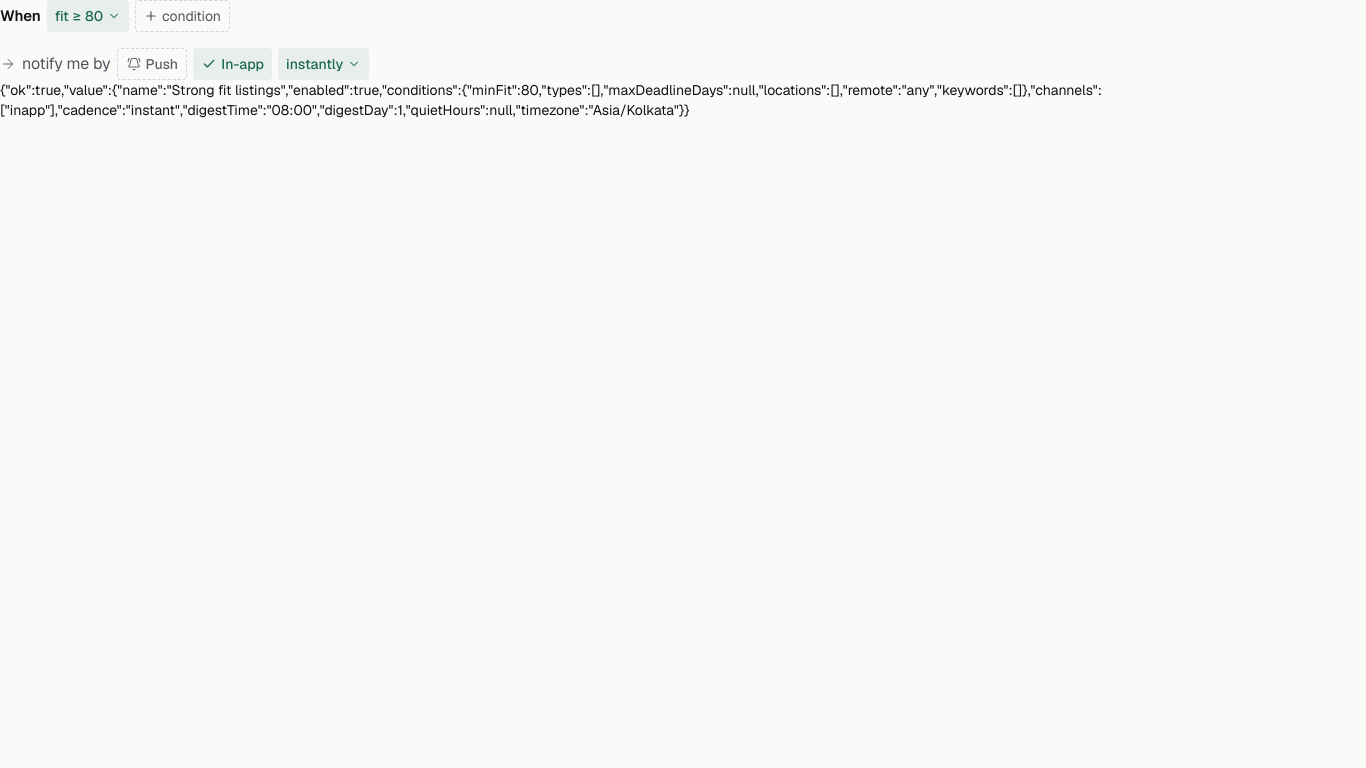
Test: SentenceBuilder → alertRuleInputSchema › edits the fit bracket from its popover
Click the button with test id "alerts-cond-fit": x=88, y=16 x1=47 y1=0 x2=129 y2=32
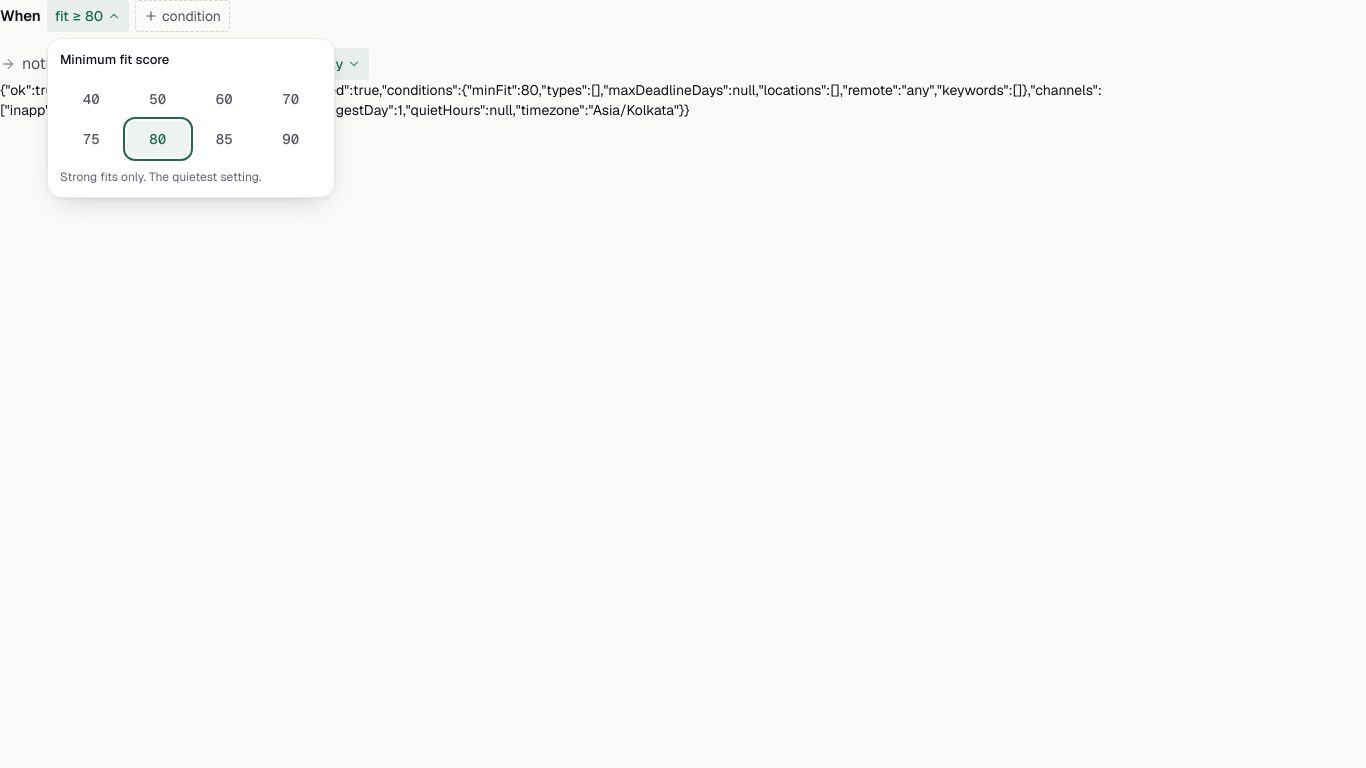
Click the radio button named "70 or more": x=291, y=99 x1=260 y1=81 x2=322 y2=117
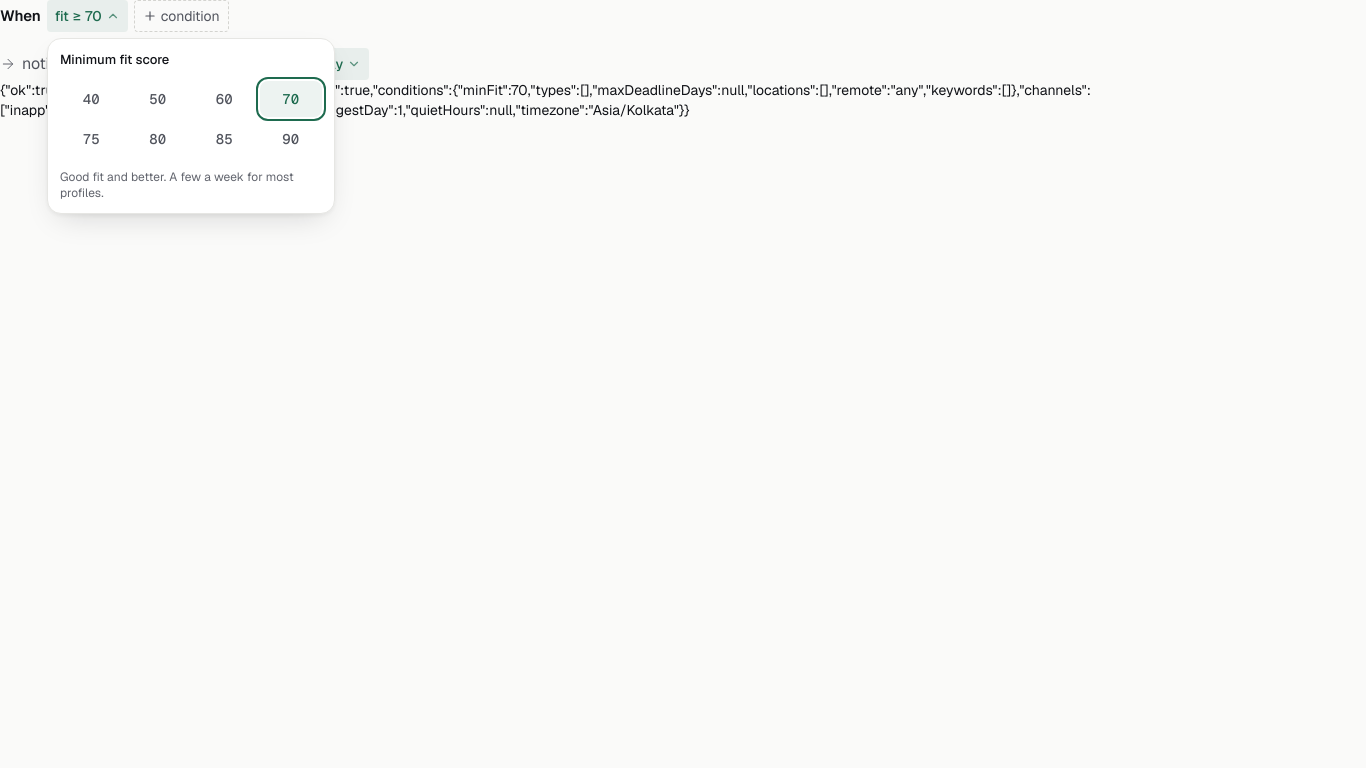
Check: the button with test id "alerts-cond-fit" reads "fit ≥ 70", box x1=47 y1=0 x2=128 y2=32
